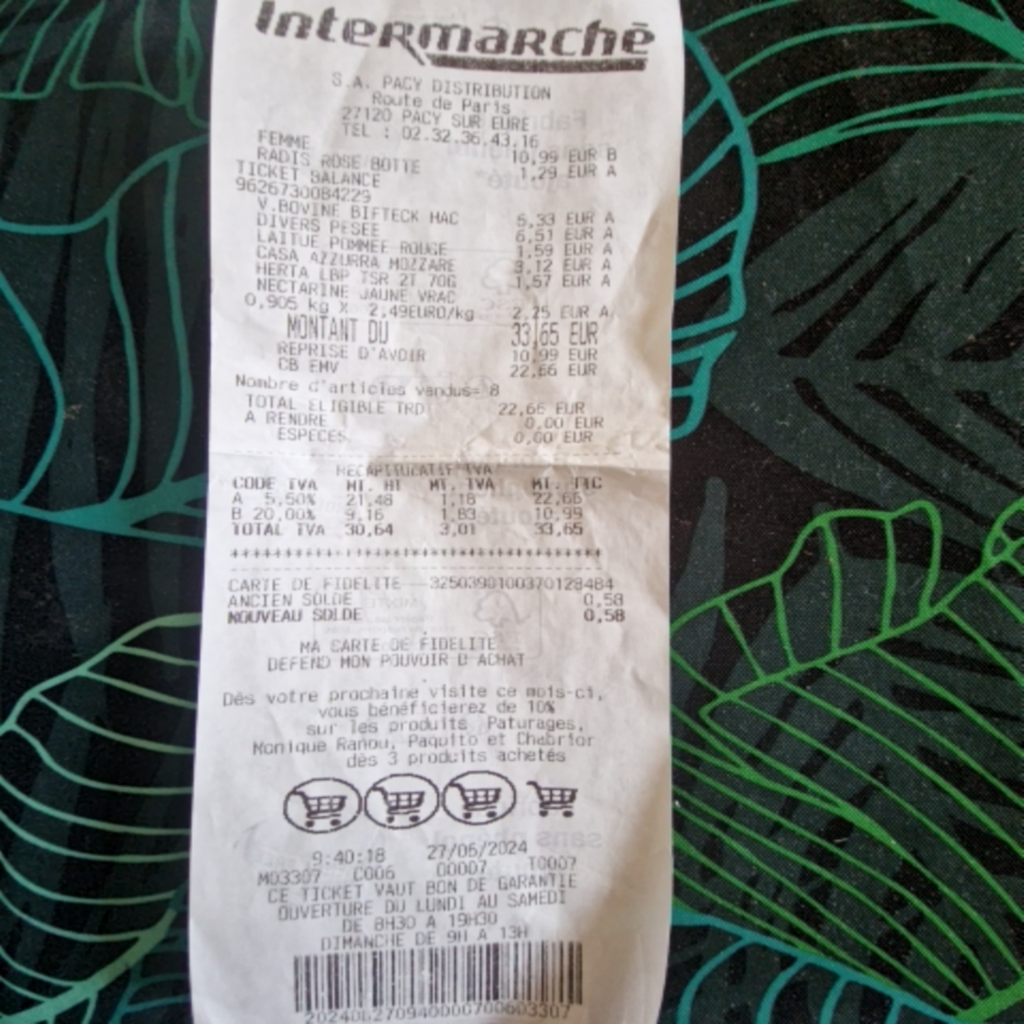recipt: (189, 0, 684, 1018)
